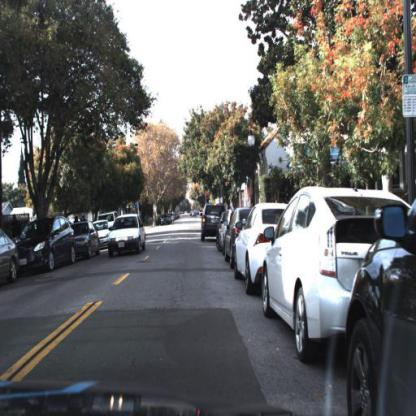car: (264, 188, 373, 363), (15, 217, 75, 276), (234, 202, 270, 293), (107, 214, 147, 258), (224, 206, 243, 272), (75, 223, 100, 261), (202, 202, 218, 242), (161, 216, 171, 229)
pedestrian: (74, 216, 79, 224), (82, 212, 86, 222)
